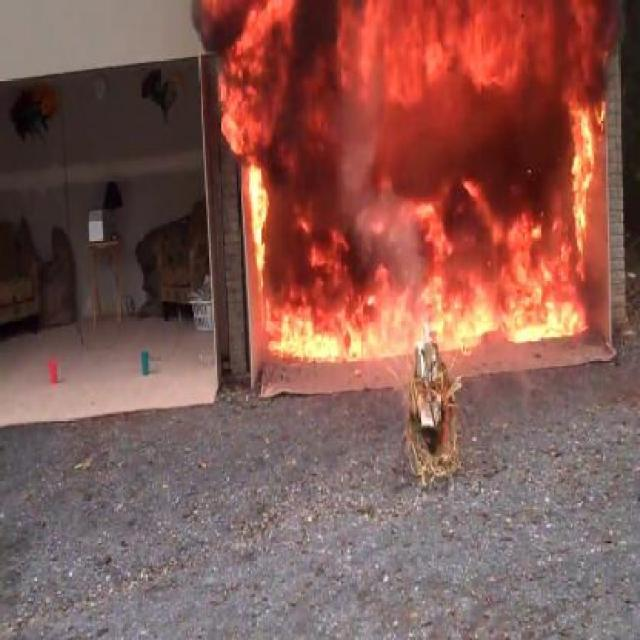fire: (232, 130, 612, 359)
